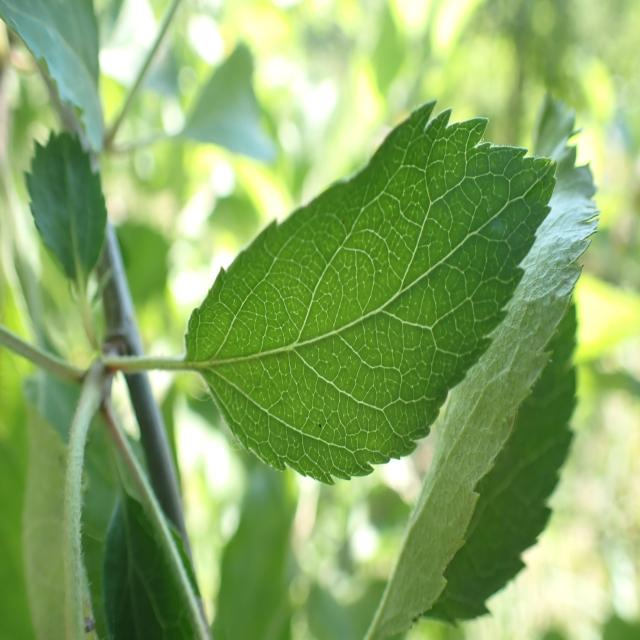healthy: (185, 99, 599, 488), (364, 141, 597, 640), (102, 486, 210, 639), (0, 0, 103, 154), (23, 128, 108, 302)
